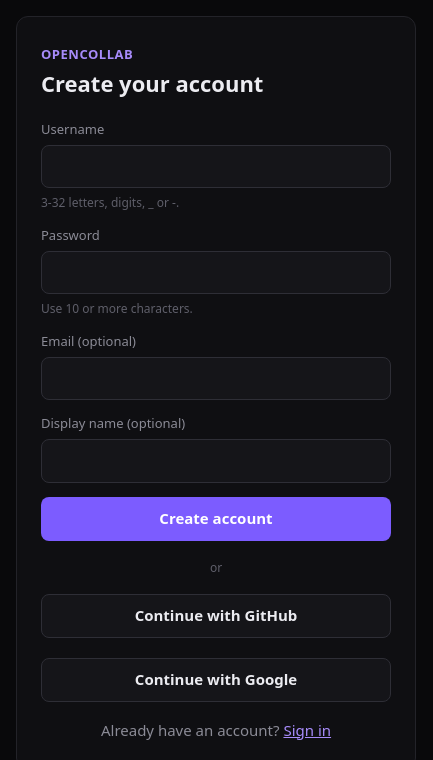
Test: register › validates client-side before sending
The width and height of the screenshot is (433, 760).
Step 1. Type "ab" into the field labelled "Username" → (216, 166), box [41,145,391,188]
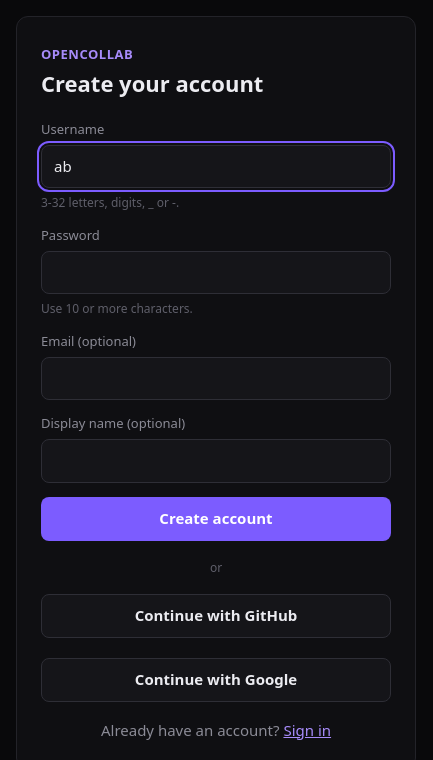
Step 2. Type "short" into the password field labelled "Password" → (216, 272), box [41,251,391,294]
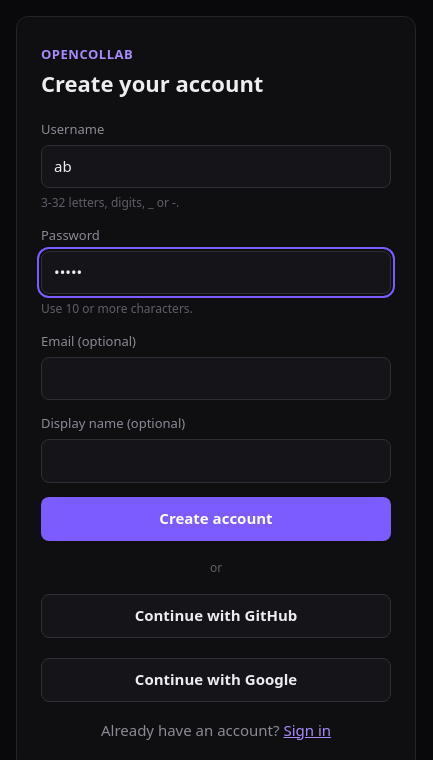
Step 3. Click the button "Create account" → (216, 519), box [41,497,391,541]
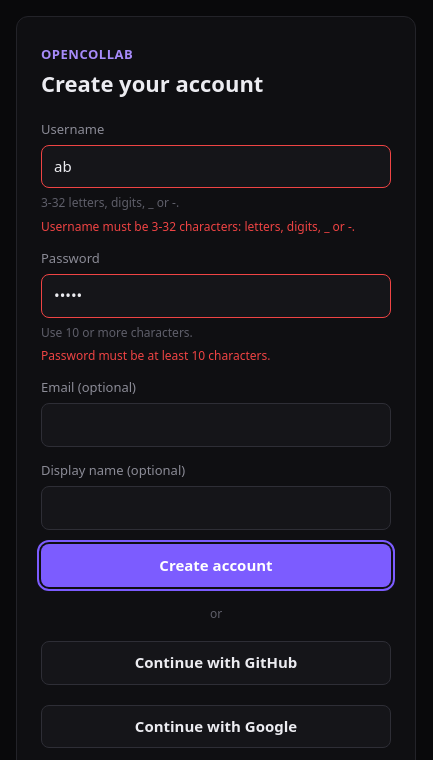
Check: the text "Username must be 3-32 characters: letters, digits, _ or -." is shown, box [41,218,391,235]
Check: the text "Password must be at least 10 characters." is shown, box [41,347,270,364]
